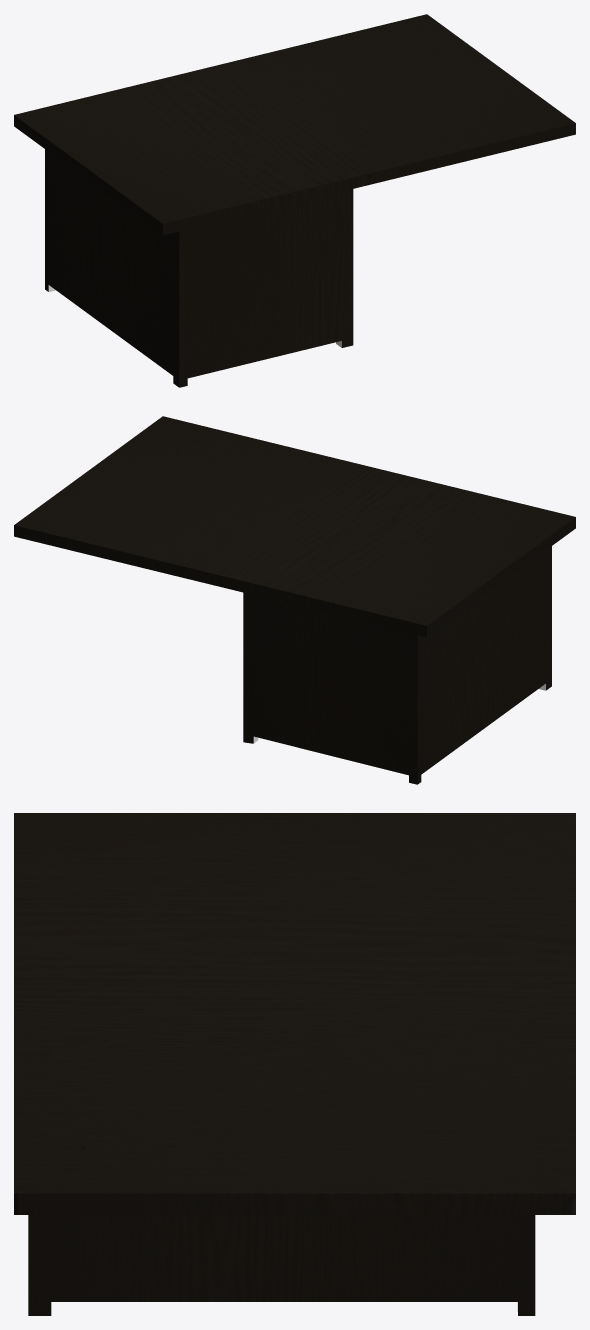
File: Desk_Export 1.fbx
3 renders of one model, top to bottom at view 1: azimuth 30°, elevation 25°; view 2: azimuth 150°, elevation 25°; view 3: azimuth 270°, elevation 25°, orthographic. The views are drawn at different scales.
Parts seen in each view (by area): view 1: pCube9; view 2: pCube9; view 3: pCube9.
Part boxes in pixels (<box>): pCube9: <box>14,14,575,387</box>; pCube9: <box>14,416,575,784</box>; pCube9: <box>14,813,575,1315</box>.
Size of the model in its own units: 4.89 by 1.94 by 3.05.
